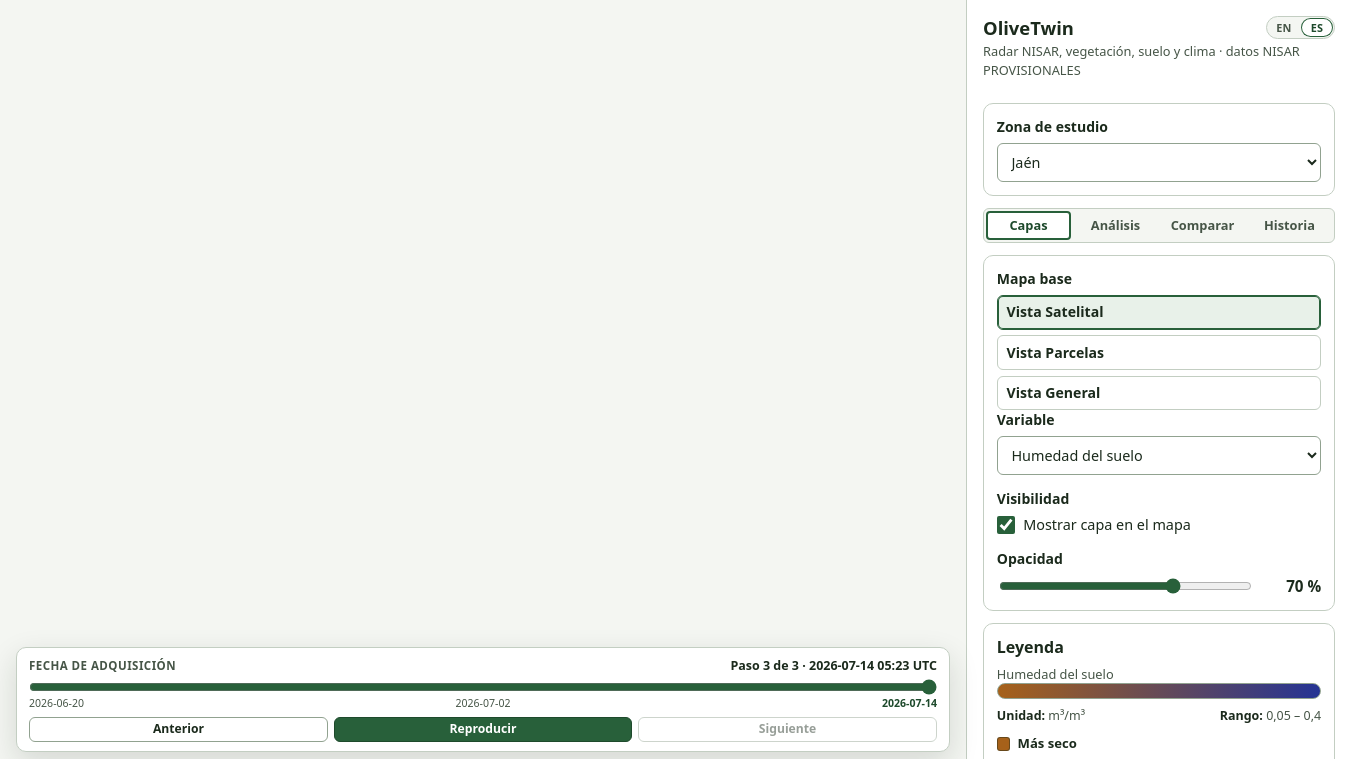
Test: App — integración con datos reales y línea temporal › el slider cambia overlay.url y la fecha; cambiar de zona reinicia al último paso
The image size is (1366, 759).
Set the slider labelled "Fecha de adquisición" to "0": (37, 687) [29,679,937,695]
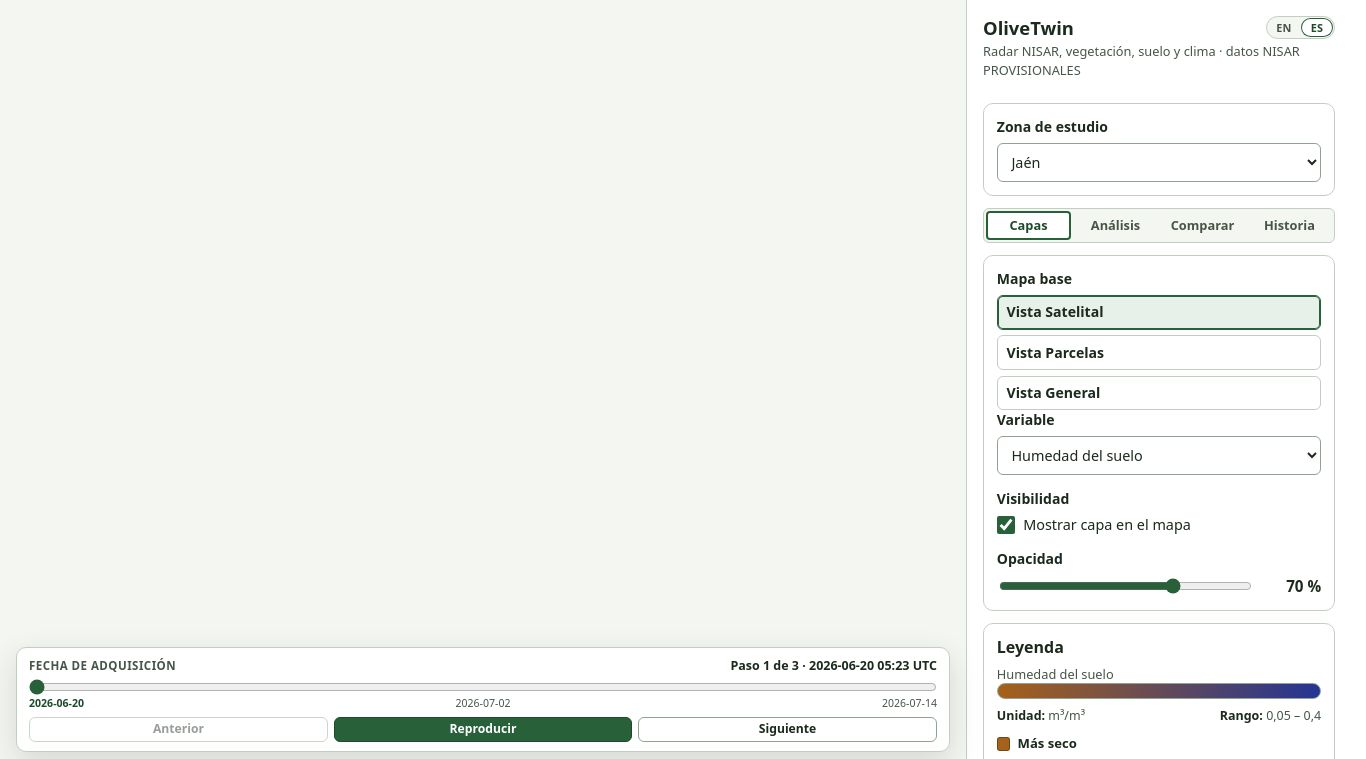
Expected: the text "2026-06-20" is shown, [730,657,937,674]
Result: the text "Paso 1 de 3" is shown at [730,657,937,674]
Note: Cambiar de zona vuelve a seleccionar el último paso de la nueva zona.
Select "Toledo" in the dropdown labelled "Zona de estudio": (1159, 162) [997,143,1321,182]
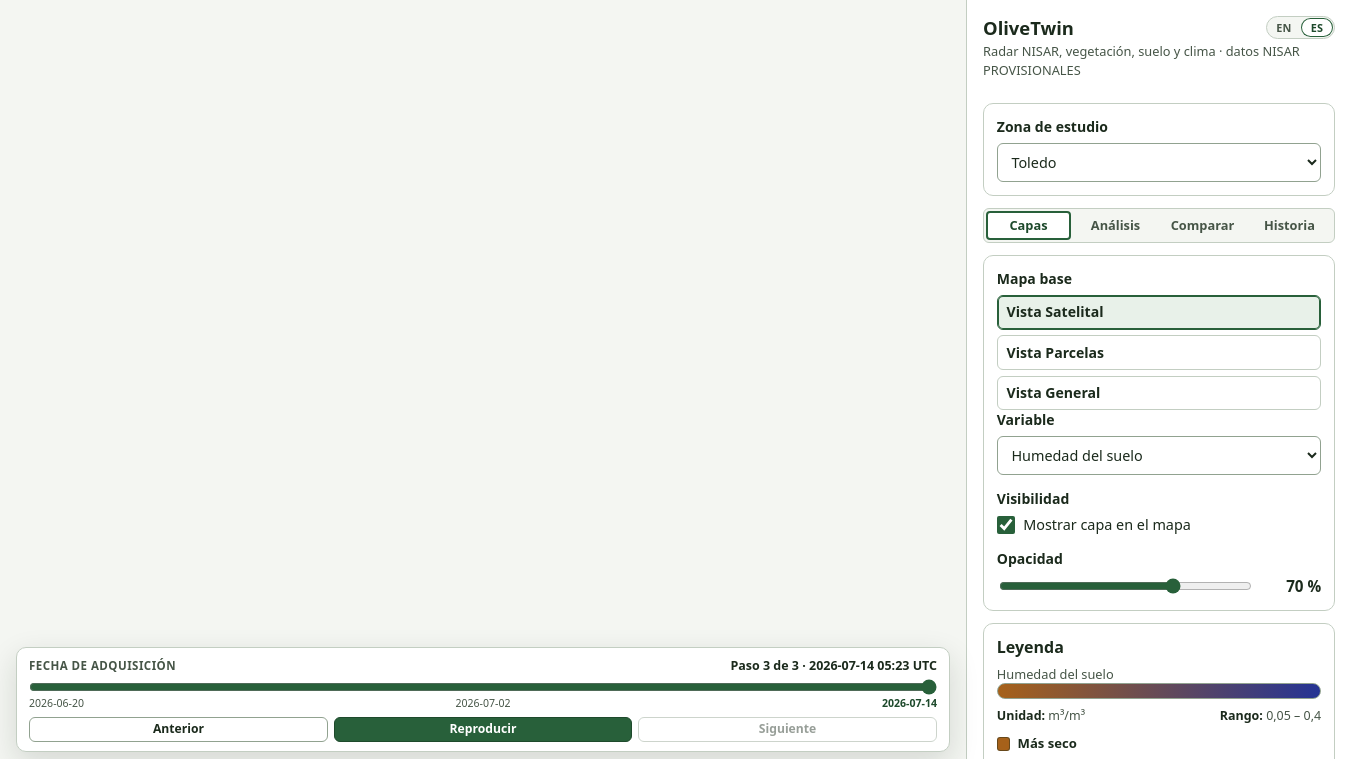
Result: the text "Paso 3 de 3" is shown at [730,657,937,674]
